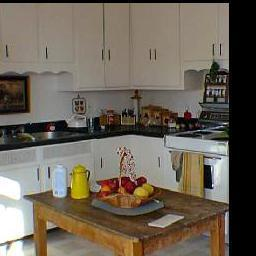Electrodomestico: (165, 136, 227, 201)
Lavaplatos: (0, 123, 89, 150)
